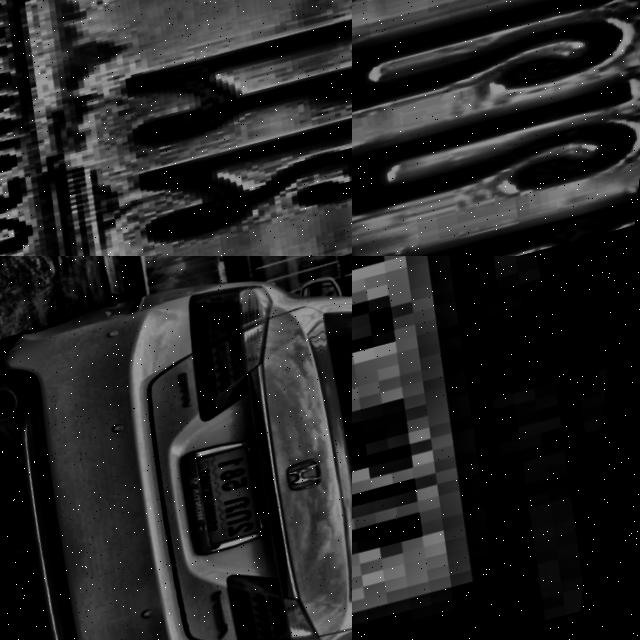license-plate: (352, 256, 640, 640), (0, 0, 352, 256), (352, 0, 640, 256), (174, 431, 294, 562)
